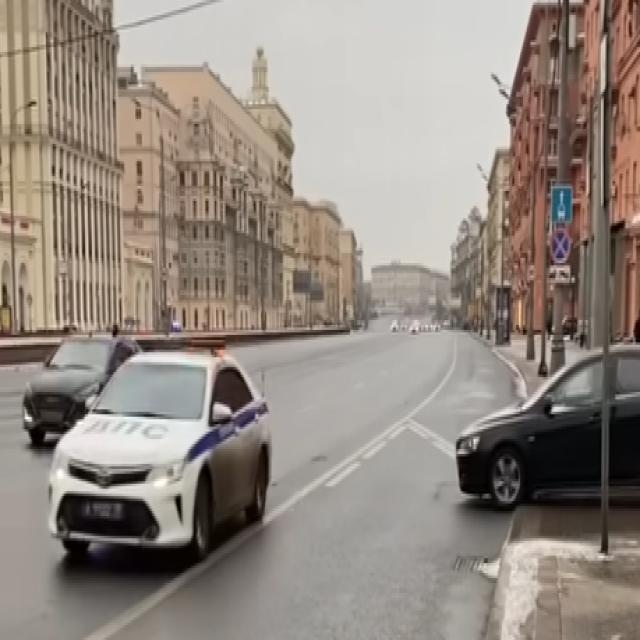non emergency car: (459, 336, 640, 512), (23, 327, 134, 449)
police car: (49, 336, 276, 559)
